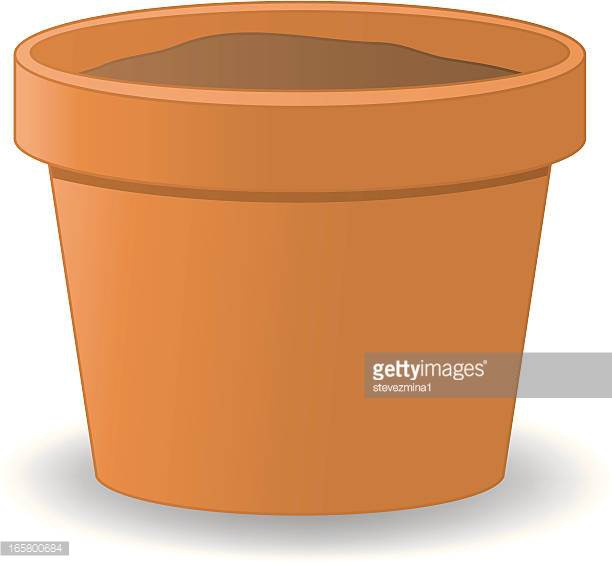flowerpot: (15, 4, 585, 515)
